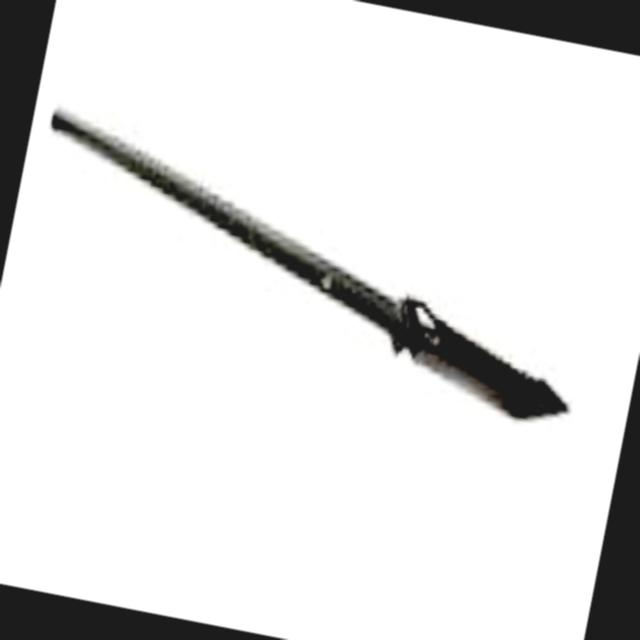spear: (0, 99, 630, 473)
